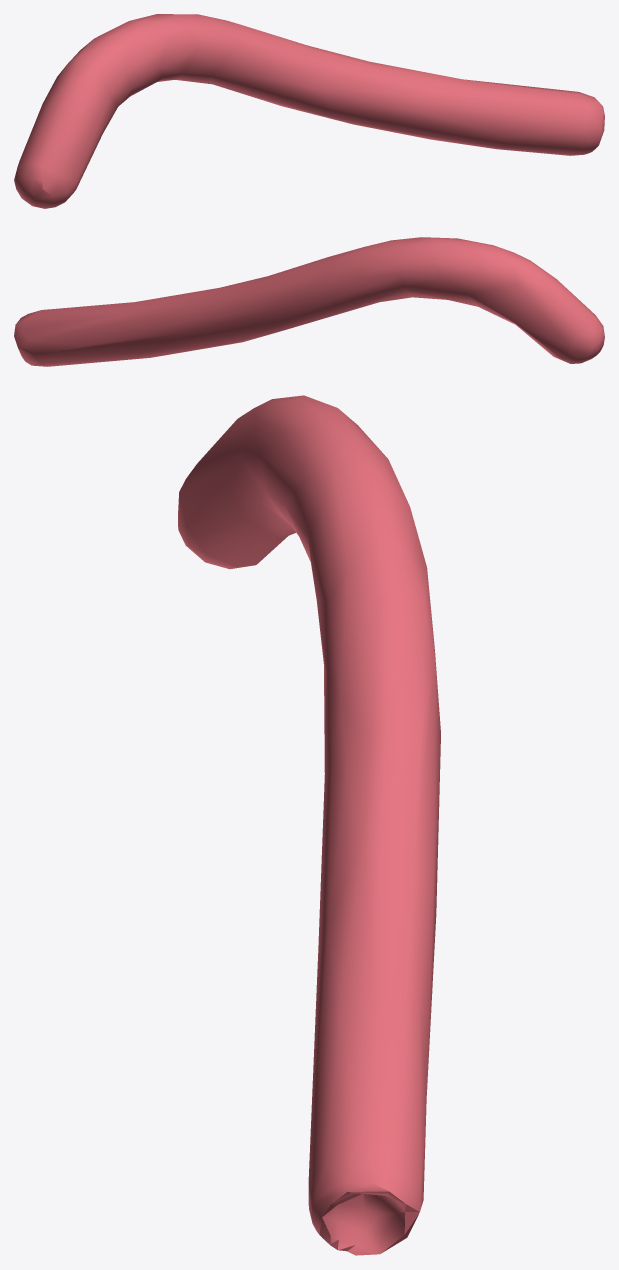
Rendered from fma4763_fj3486.glb.
3 renders of one model, top to bottom at view 1: azimuth 30°, elevation 25°; view 2: azimuth 150°, elevation 25°; view 3: azimuth 270°, elevation 25°, orthographic. The views are drawn at different scales.
Visible parts, largest first — view 1: FMA4763_FJ3486; view 2: FMA4763_FJ3486; view 3: FMA4763_FJ3486.
Part boxes in pixels (x1,y1,x2,y2): FMA4763_FJ3486: [14, 14, 604, 208]; FMA4763_FJ3486: [14, 237, 604, 366]; FMA4763_FJ3486: [178, 395, 440, 1255].
Bounding box in the file's own units: 0.0749 × 0.0283 × 0.0156.
